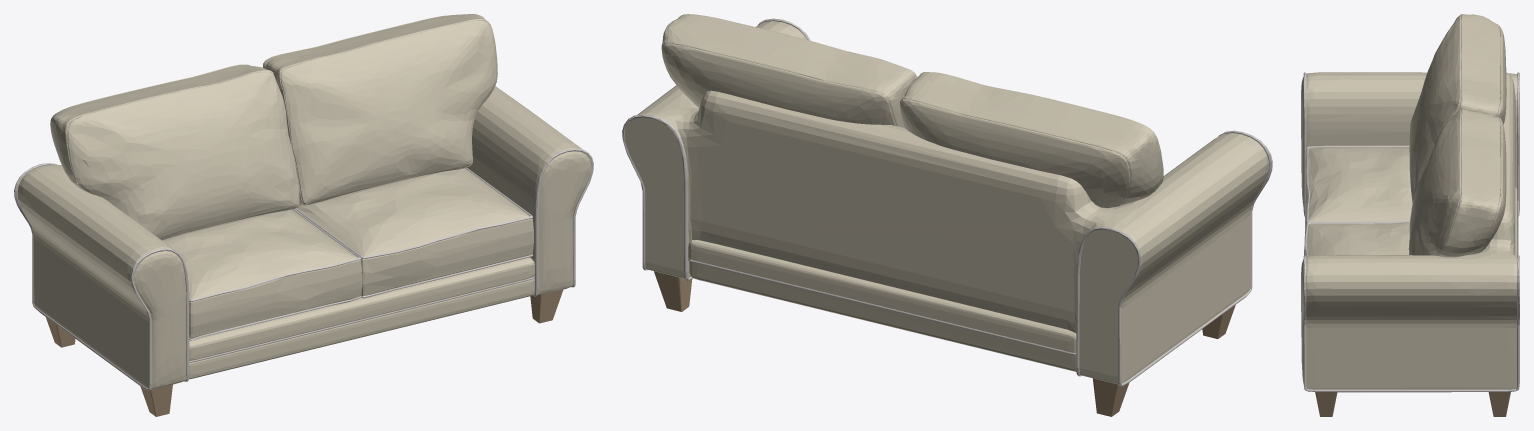
The model's file is sweethome3d-blendswap-cc-0-sofa-131.glb.
3 views of the same model, side by side, from view 1: azimuth 30°, elevation 25°; view 2: azimuth 150°, elevation 25°; view 3: azimuth 270°, elevation 25° (orthographic). The views are drawn at different scales.
Visible parts, largest first — view 1: Sofa; view 2: Sofa; view 3: Sofa.
Boxes of the visible parts, <box> form: Sofa: <box>14,14,593,416</box>; Sofa: <box>622,14,1272,416</box>; Sofa: <box>1301,14,1519,416</box>.
Size of the model in its own units: 167 by 84.81 by 74.71.
